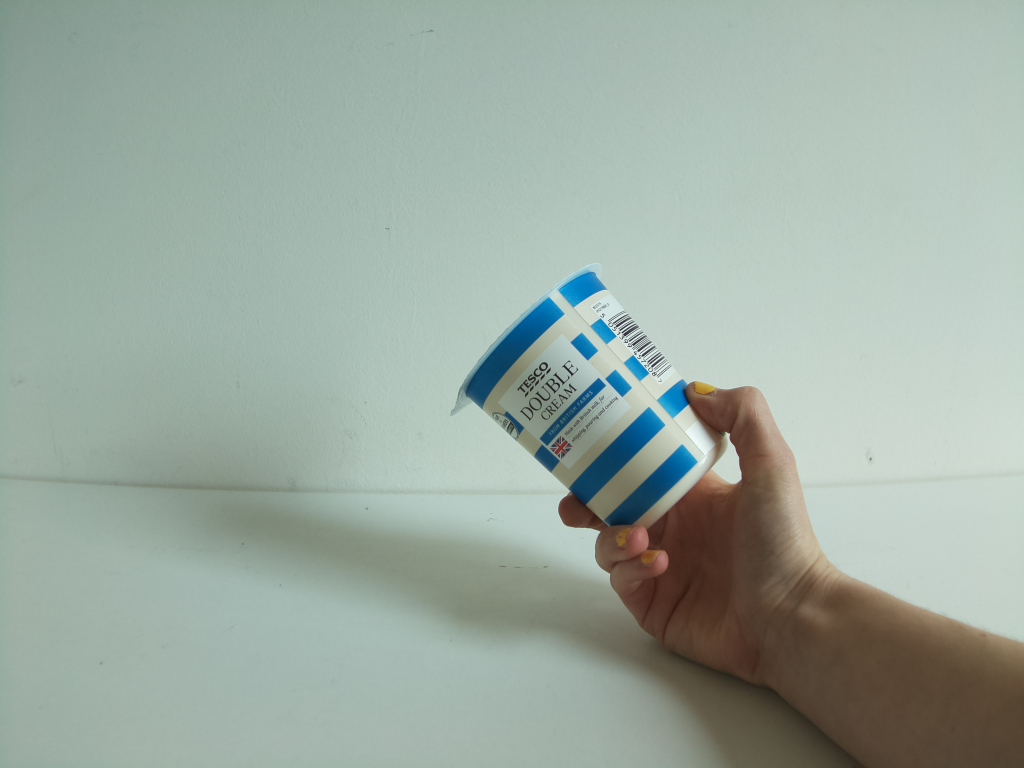cream: (452, 261, 731, 540)
